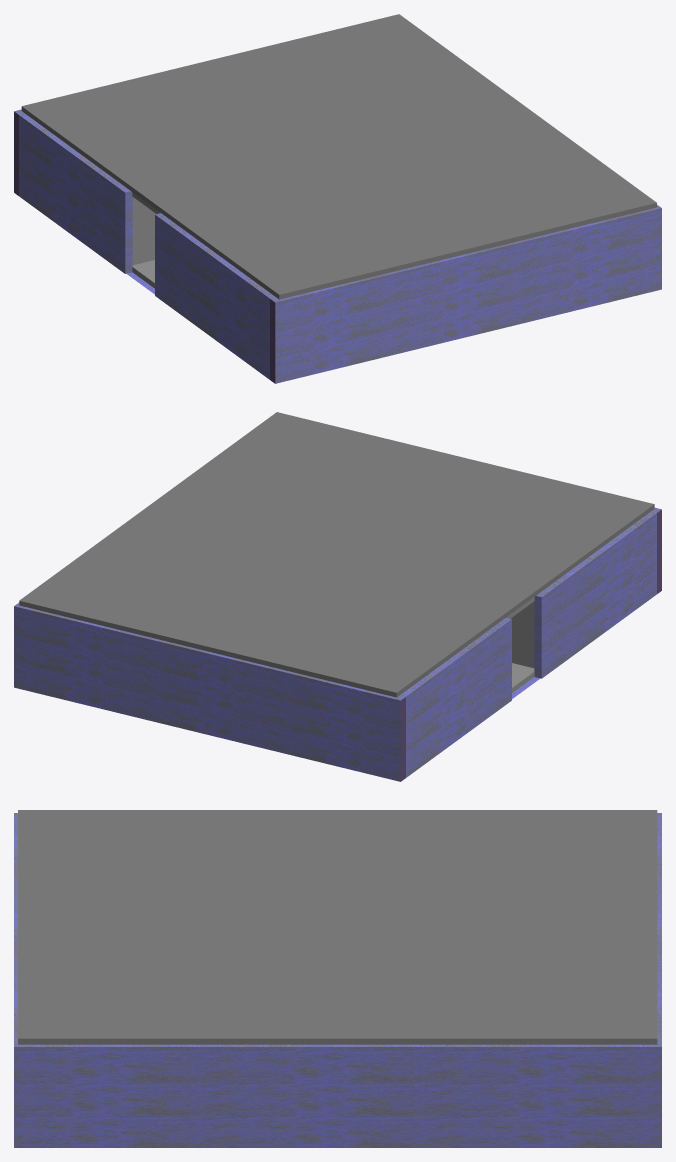
File: Chemistry lab1.fbx
The picture shows the model from 3 angles, top to bottom: view 1: azimuth 30°, elevation 25°; view 2: azimuth 150°, elevation 25°; view 3: azimuth 270°, elevation 25°; orthographic projection. The views are drawn at different scales.
Parts seen in each view (by area): view 1: chemistry_lab:pCube1, chemistry_lab:Plane, chemistry_lab:pCube2; view 2: chemistry_lab:pCube1, chemistry_lab:Plane, chemistry_lab:pCube2; view 3: chemistry_lab:pCube1, chemistry_lab:Plane.
Boxes of the visible parts, x1=… form: chemistry_lab:pCube1: x1=21, y1=14, x2=656, y2=299; chemistry_lab:Plane: x1=14, y1=109, x2=661, y2=383; chemistry_lab:pCube2: x1=132, y1=192, x2=160, y2=288; chemistry_lab:pCube1: x1=19, y1=412, x2=654, y2=697; chemistry_lab:Plane: x1=14, y1=507, x2=661, y2=781; chemistry_lab:pCube2: x1=506, y1=597, x2=534, y2=692; chemistry_lab:pCube1: x1=18, y1=810, x2=657, y2=1044; chemistry_lab:Plane: x1=14, y1=813, x2=661, y2=1147.
Bounding box in the file's own units: 2088 × 446 × 2442.
